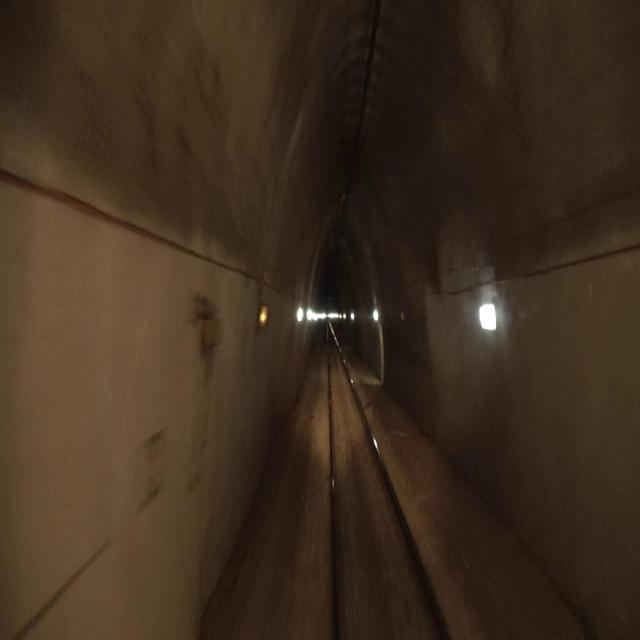rail-track: (328, 325, 444, 639)
